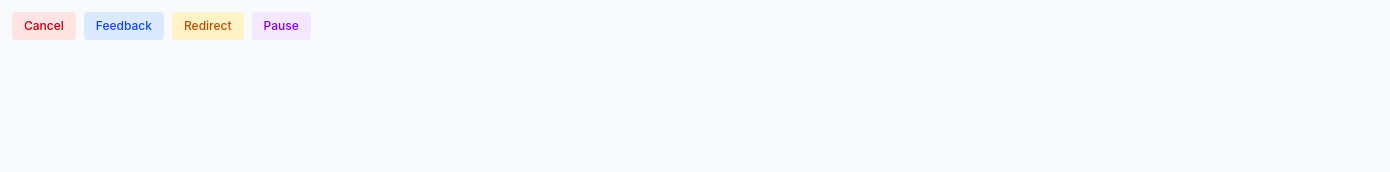
InterventionPanel › clicking Feedback opens a text input
Click the button "Feedback": (124, 26) [84, 12, 164, 40]
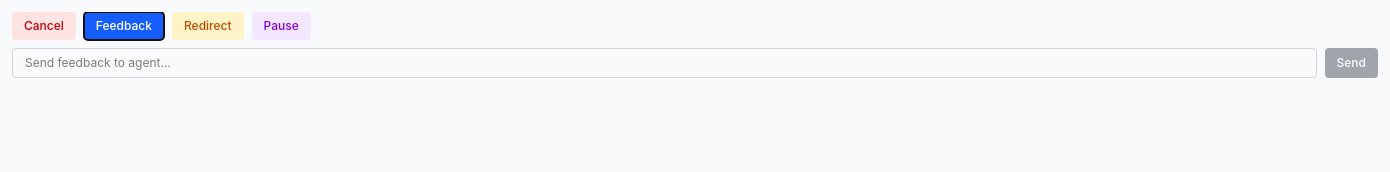
Expected: the field with placeholder "Send feedback to agent..." is shown, [12, 48, 1317, 78]
